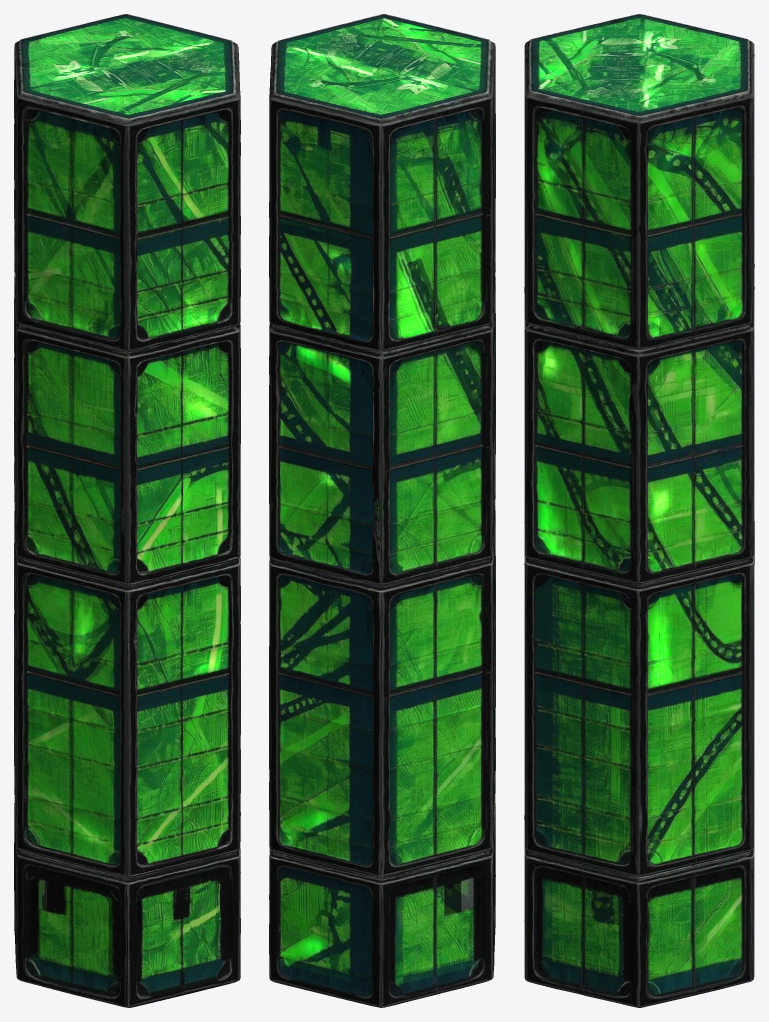
Rendered from tower_green_mobile.glb.
The picture shows the model from 3 angles, left to right: view 1: azimuth 30°, elevation 25°; view 2: azimuth 150°, elevation 25°; view 3: azimuth 270°, elevation 25°; orthographic projection.
Size of the model in its own units: 0.4938 by 1.9 by 0.4442.
Materials: 1 (1 with a texture image).
